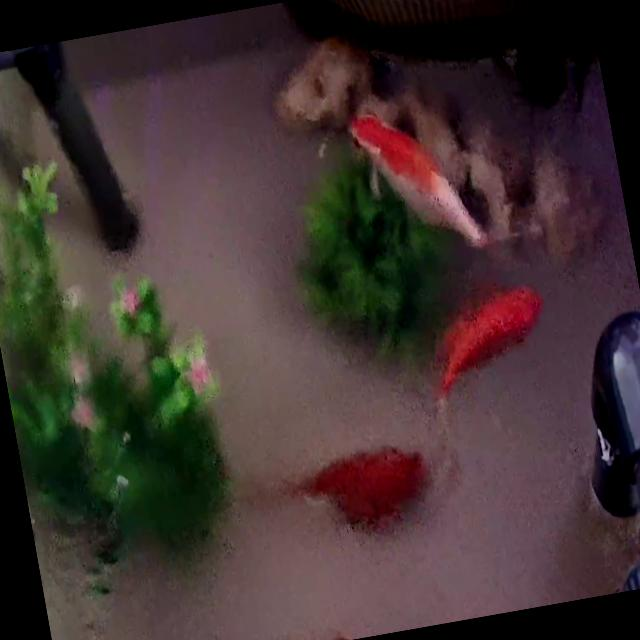fish: (345, 97, 486, 270), (418, 280, 556, 410), (289, 442, 423, 540)
